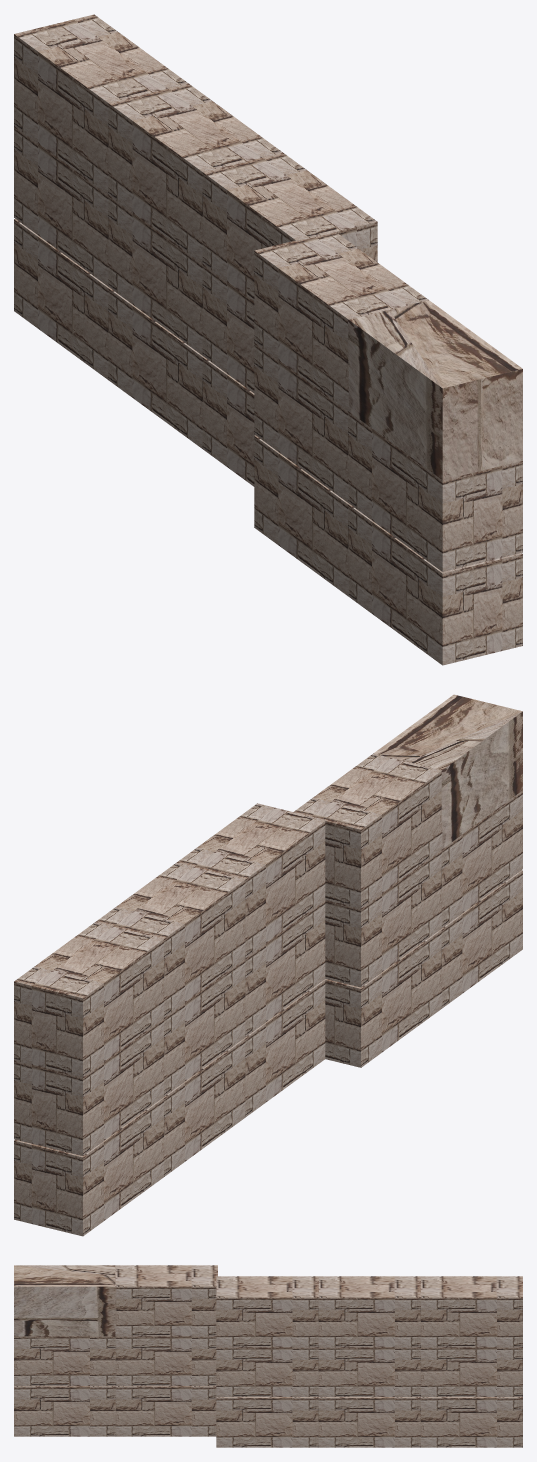
The model's file is wall.fbx.
3 views of the same model, one above another, from view 1: azimuth 30°, elevation 25°; view 2: azimuth 150°, elevation 25°; view 3: azimuth 270°, elevation 25° (orthographic). The views are drawn at different scales.
Parts seen in each view (by area): view 1: Cube.012, Cube.002, Cube.014, Cube.013, Cube.007, Cube.011, Cube.010, Cube.003, Cube.004, Cube.001, Cube.008, Cube.009 (+3 smaller); view 2: Cube.014, Cube.011, Cube.004, Cube.013, Cube.012, Cube.010, Cube.009, Cube.001, Cube.006, Cube.003, Cube.002, Cube (+3 smaller); view 3: Cube.010, Cube.013, Cube.014, Cube.012, Cube.011, Cube, Cube.003, Cube.002, Cube.004, Cube.001, Cube.005, Cube.008 (+3 smaller).
Part boxes in pixels (x1,y1,x2,y2): Cube.012: (348,300,522,480); Cube.002: (348,504,522,665); Cube.014: (14,14,188,194); Cube.013: (108,83,282,263); Cube.007: (348,411,522,571); Cube.011: (254,232,428,411); Cube.010: (202,153,377,301); Cube.003: (108,288,203,448); Cube.004: (14,219,109,379); Cube.001: (254,435,349,596); Cube.008: (108,195,202,355); Cube.009: (14,126,108,286); Cube.014: (14,922,164,1077); Cube.011: (294,753,442,908); Cube.004: (14,1097,164,1236); Cube.013: (96,863,245,1017); Cube.012: (373,694,522,848); Cube.010: (176,803,325,957); Cube.009: (14,1018,164,1155); Cube.001: (325,929,442,1067); Cube.006: (325,850,442,987); Cube.003: (163,1038,245,1176); Cube.002: (441,870,522,1007); Cube: (244,979,325,1117); Cube.010: (216,1276,318,1347); Cube.013: (318,1276,420,1347); Cube.014: (420,1276,522,1347); Cube.012: (14,1265,116,1336); Cube.011: (115,1265,217,1336); Cube: (216,1397,318,1447); Cube.003: (318,1397,420,1447); Cube.002: (14,1386,116,1436); Cube.004: (420,1397,522,1447); Cube.001: (115,1386,216,1436); Cube.005: (216,1347,318,1396); Cube.008: (318,1347,420,1396).
Size of the model in its own units: 149 by 323 by 994.
